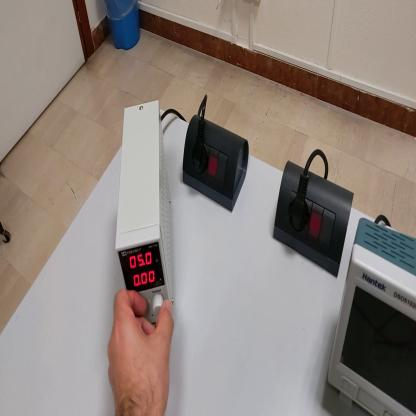hand: (107, 288, 174, 415)
oscilloscope: (327, 207, 416, 414)
power supply: (116, 102, 175, 327)
socket: (271, 153, 355, 280), (183, 114, 252, 213)
